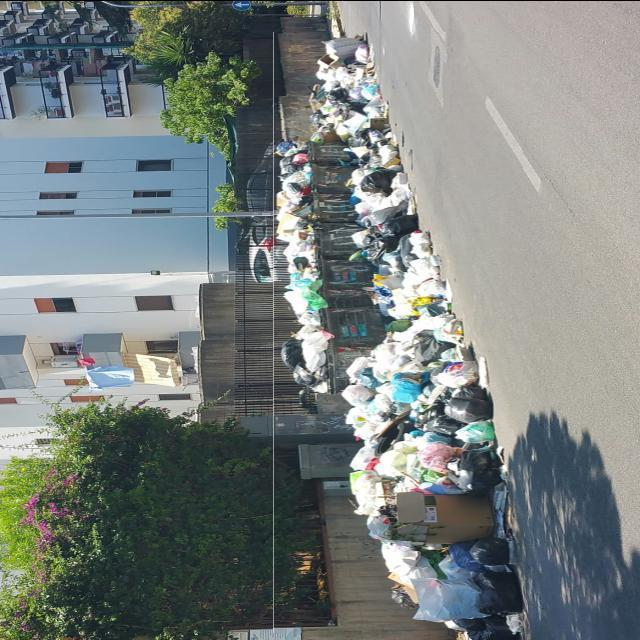Trashbag: (448, 439, 508, 501), (470, 568, 533, 616), (372, 210, 420, 263), (430, 383, 495, 420), (467, 531, 515, 570), (357, 169, 404, 203), (277, 337, 308, 372)
